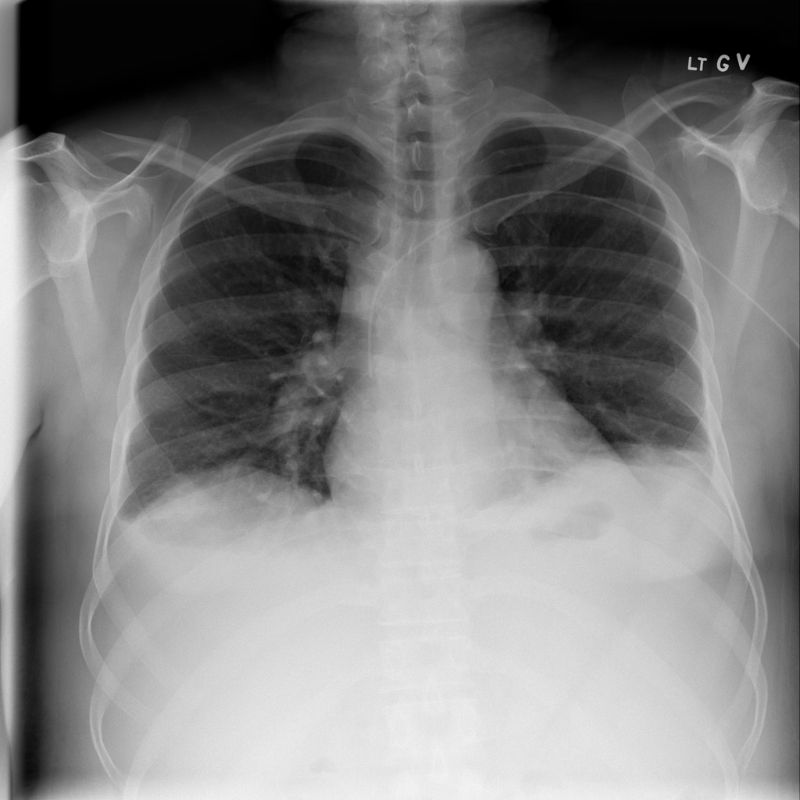PLEURAL EFFUSION: (629, 427, 731, 584), (103, 497, 158, 582)
